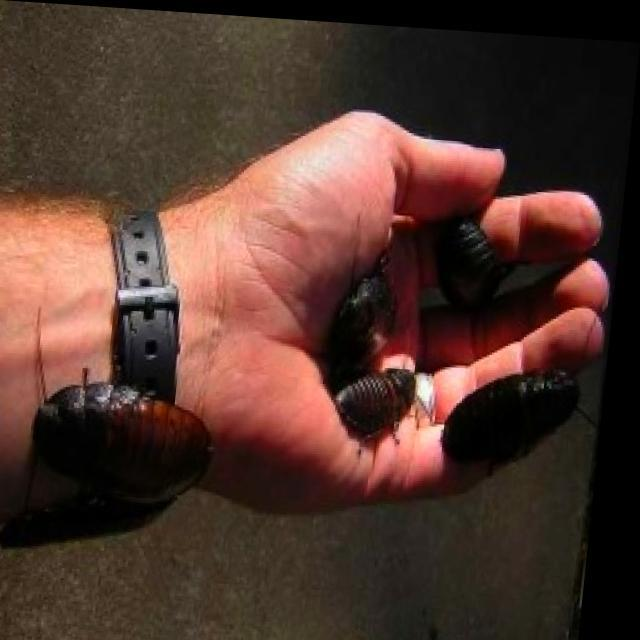cockroach: (0, 392, 242, 525), (425, 355, 592, 479)
